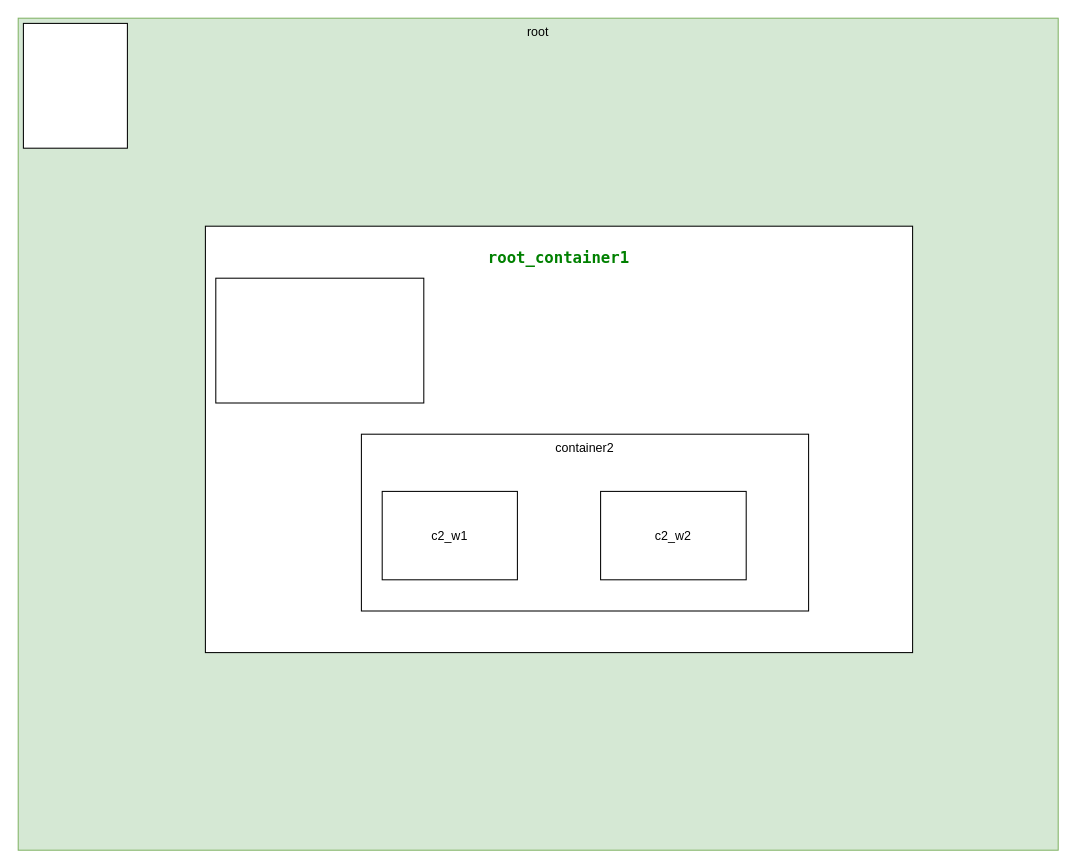
The diagram is 1076 pixels wide and 868 high, and some of its shapes have lost their labels. The centre of each missing label's shape, as x and y in pixels:
container1_w1: the point at 319,340
root_w1: the point at 74,85
